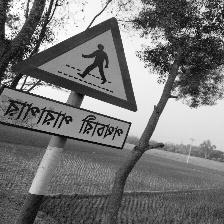Pedestrian-crossing: (0, 16, 140, 152)
